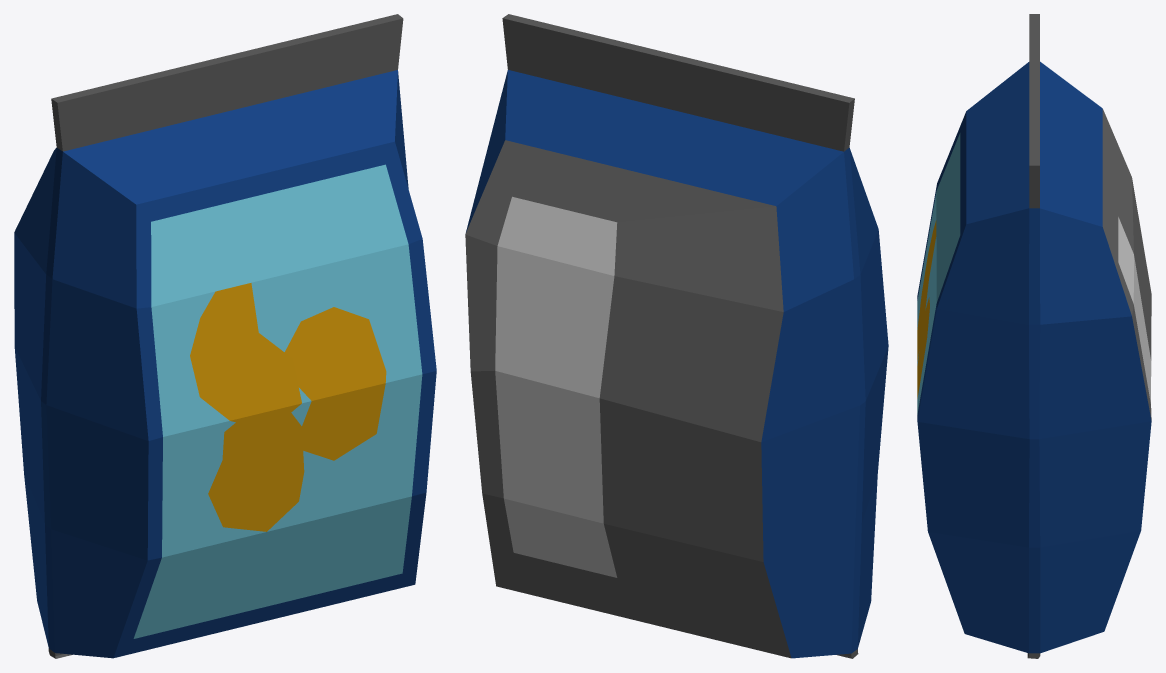
File: Regular Potato Chips Large.fbx
3 views of the same model, side by side, from view 1: azimuth 30°, elevation 25°; view 2: azimuth 150°, elevation 25°; view 3: azimuth 270°, elevation 25° (orthographic). The views are drawn at different scales.
Parts seen in each view (by area): view 1: Regular Potato Chips Large; view 2: Regular Potato Chips Large; view 3: Regular Potato Chips Large.
Boxes of the visible parts, bbox=[...] form: Regular Potato Chips Large: bbox=[14, 14, 436, 658]; Regular Potato Chips Large: bbox=[465, 14, 888, 658]; Regular Potato Chips Large: bbox=[917, 14, 1151, 658].
Size of the model in its own units: 38.31 by 55.33 by 23.57.
Materials: 1 (1 with a texture image).
